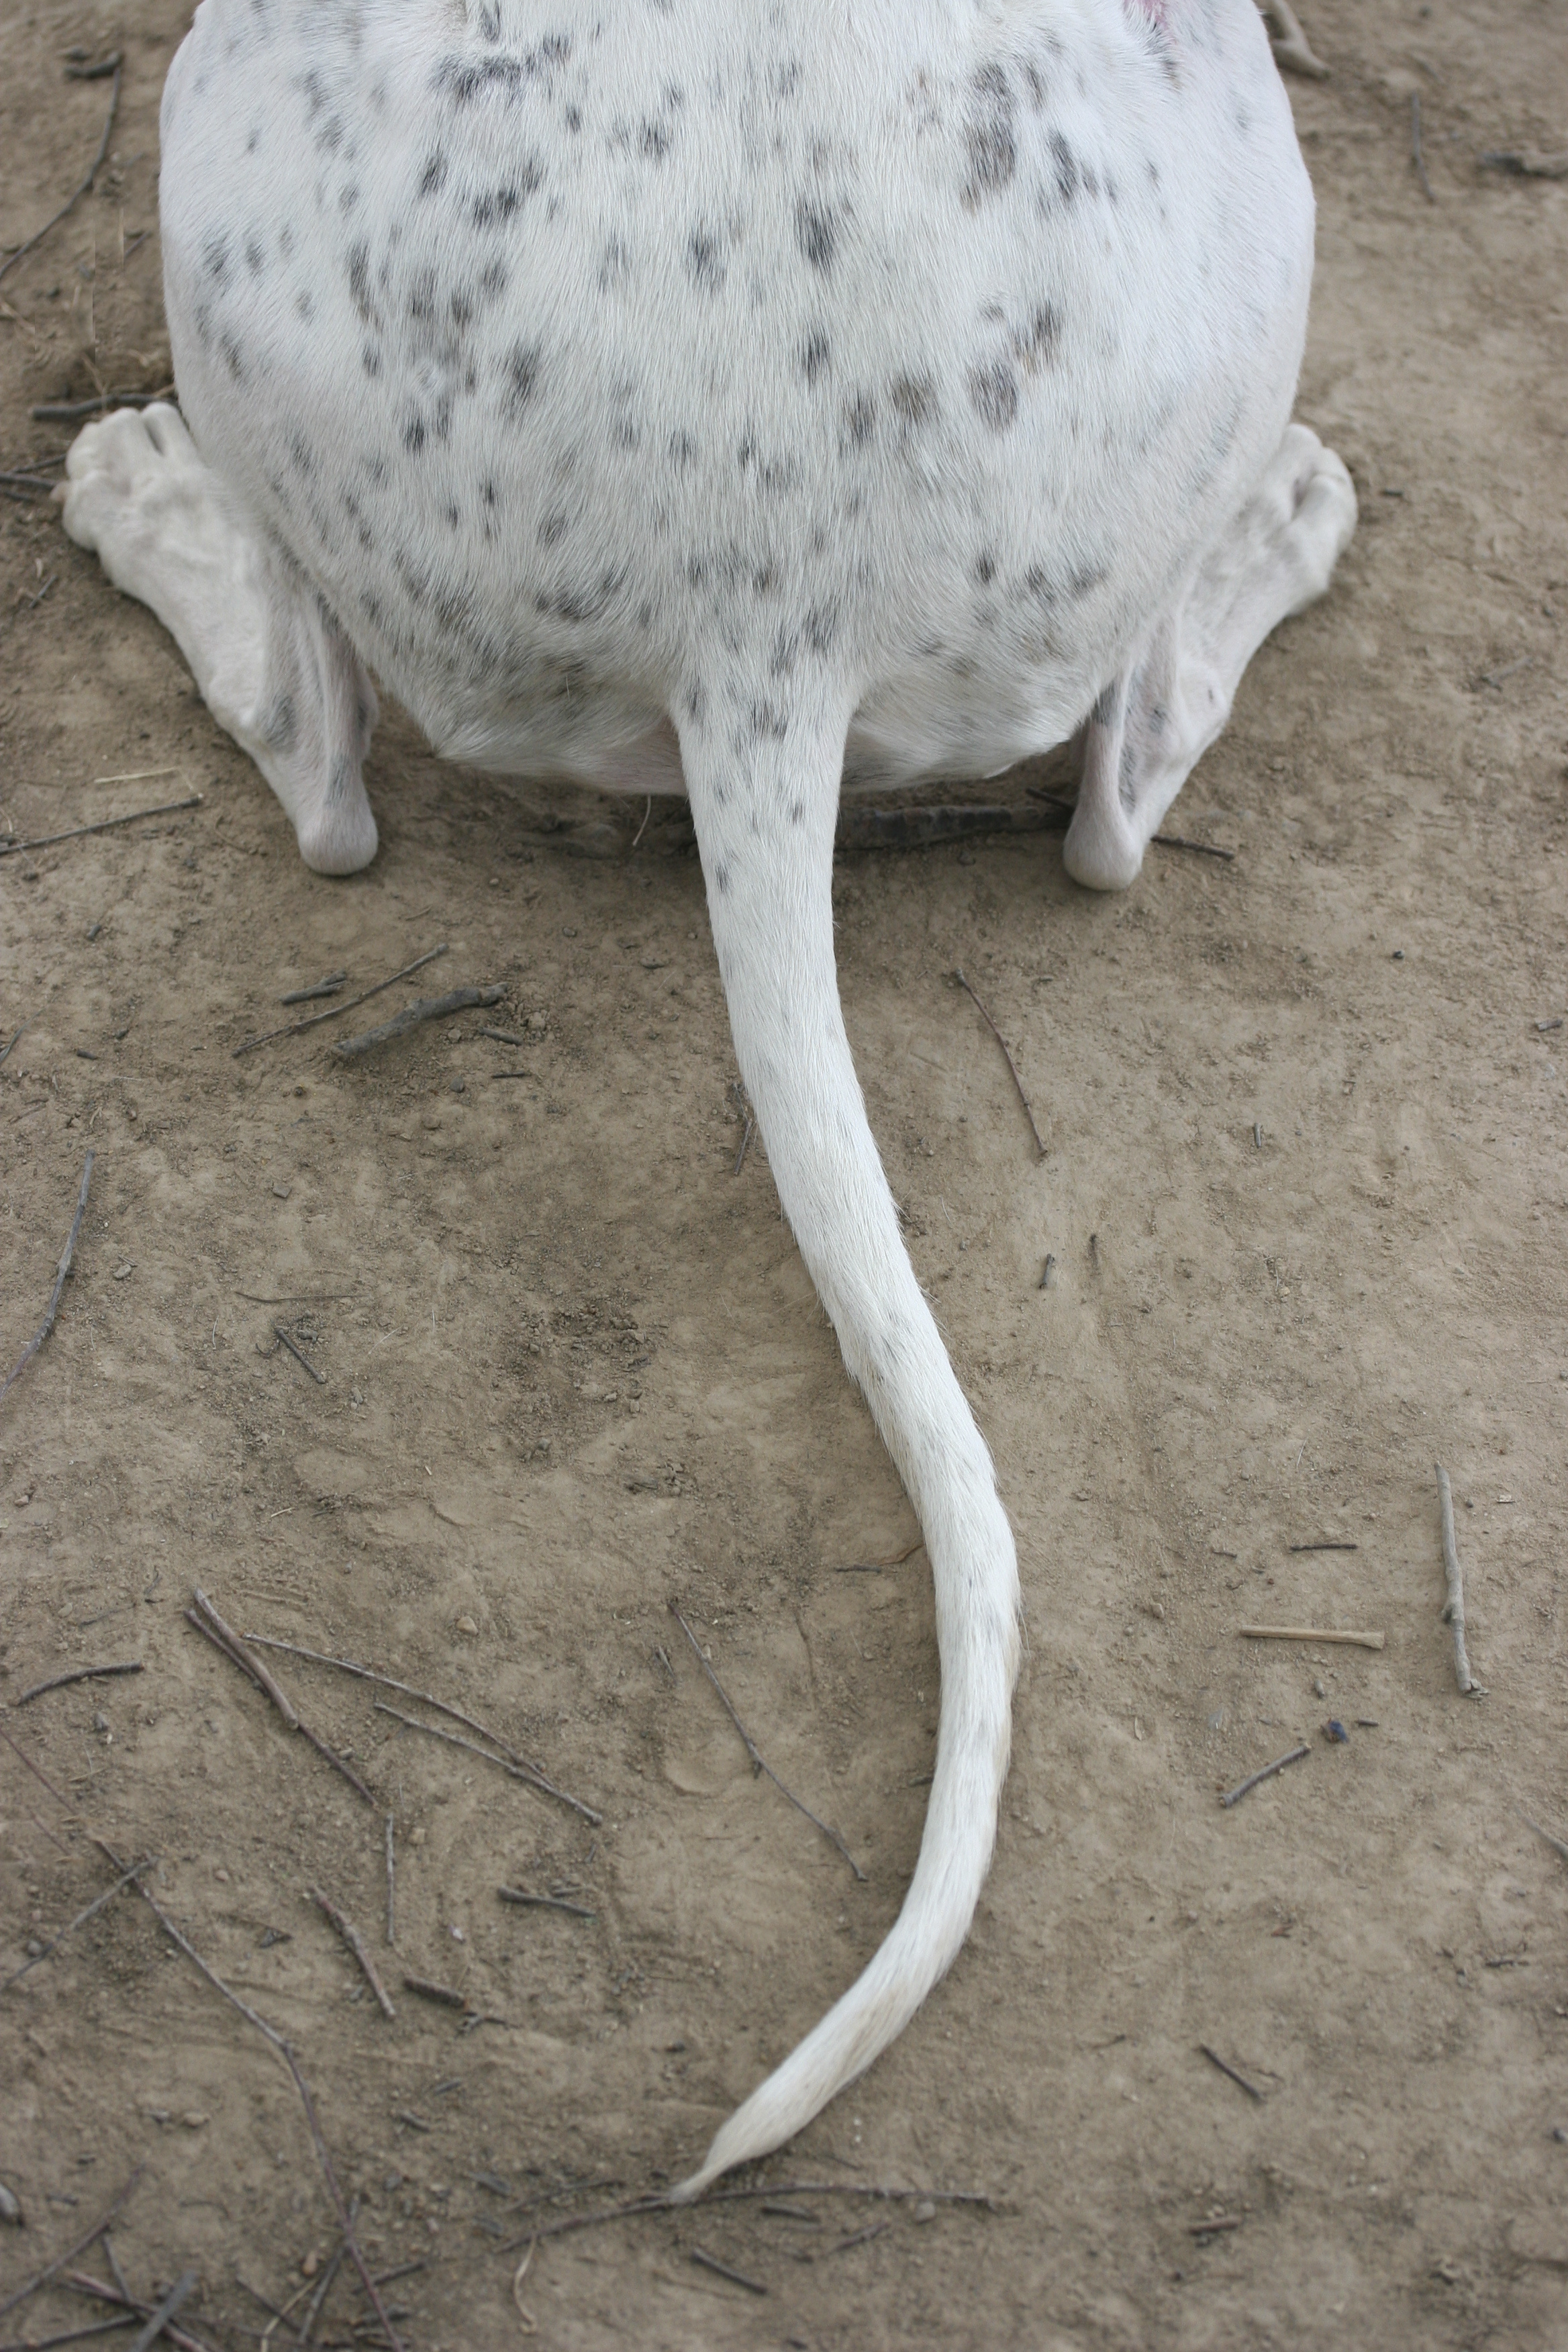tail: (612, 660, 1045, 2233)
